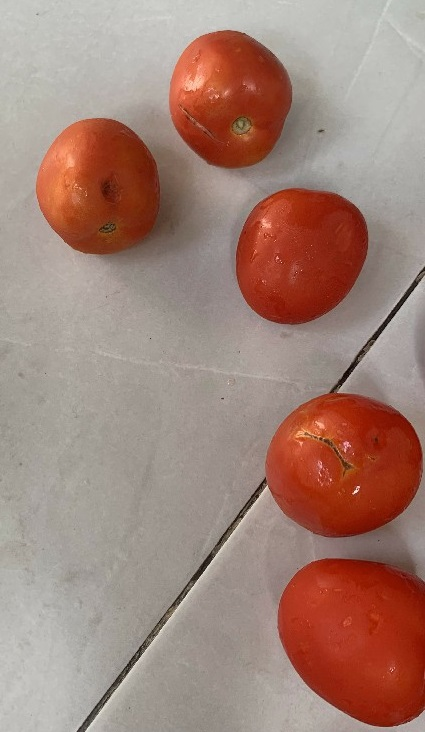NG: (259, 388, 425, 537), (29, 112, 166, 264), (165, 27, 299, 178)
OK: (272, 547, 424, 731), (227, 178, 374, 330)
